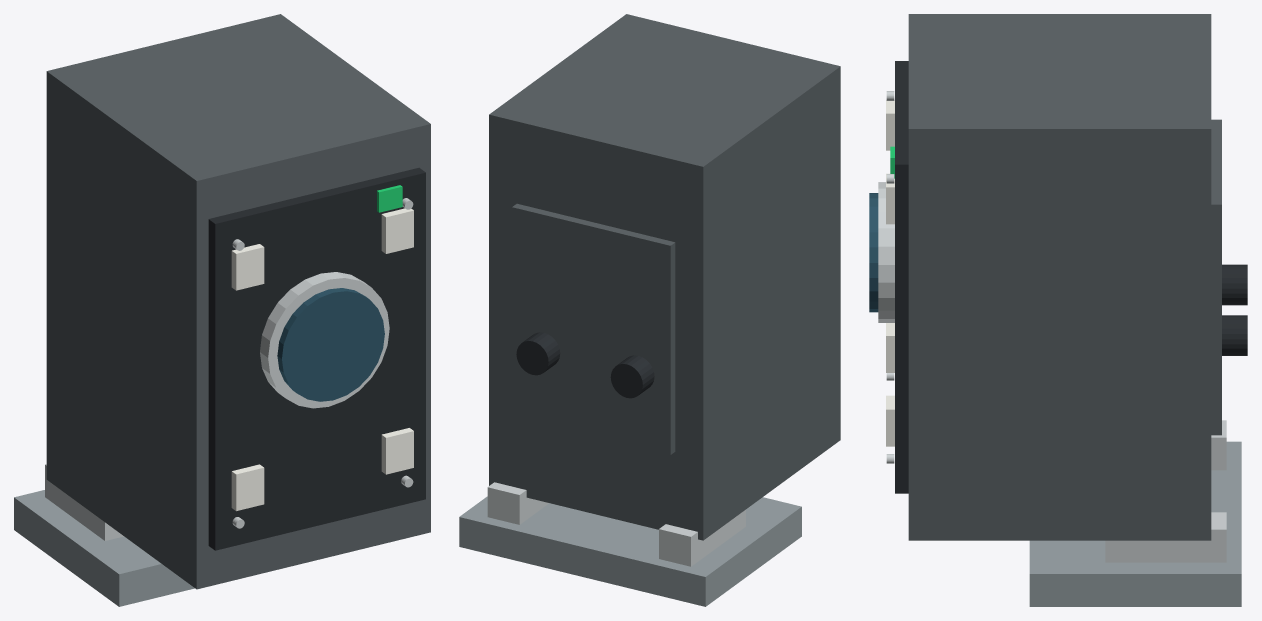
3 views of the same model, side by side, from view 1: azimuth 30°, elevation 25°; view 2: azimuth 150°, elevation 25°; view 3: azimuth 270°, elevation 25° (orthographic). The views are drawn at different scales.
Visible parts, largest first — view 1: housing, front bezel, optical lens, Mount bracket, lens surround, illumination emitter, mounting flange, illumination emitter.001, illumination emitter.002, illumination emitter.003, status indicator; view 2: housing, Rear connector plate, Mount bracket, mounting flange, mounting flange.001, Electrical connector, Electrical connector.001; view 3: housing, Mount bracket, front bezel, Rear connector plate, mounting flange.001, lens surround, optical lens, Electrical connector, Electrical connector.001, mounting flange.
Boxes of the visible parts, x1,y1,x2,y2 form: housing: (46,14,430,589); front bezel: (208,167,425,550); optical lens: (277,288,384,401); Mount bracket: (14,490,194,606); lens surround: (260,272,389,408); illumination emitter: (231,464,264,511); mounting flange: (45,464,123,540); illumination emitter.001: (231,244,264,290); illumination emitter.002: (381,428,413,474); illumination emitter.003: (381,208,413,253); status indicator: (377,185,402,212); housing: (489,14,840,540); Rear connector plate: (512,203,675,454); Mount bracket: (459,496,801,606); mounting flange: (659,509,745,566); mounting flange.001: (487,482,548,524); Electrical connector: (610,355,654,398); Electrical connector.001: (516,332,560,375); housing: (908,14,1211,540); Mount bracket: (1029,441,1241,606); front bezel: (895,61,908,493); Rear connector plate: (1211,119,1221,435); mounting flange.001: (1105,512,1226,562); lens surround: (878,182,894,322); optical lens: (869,193,878,312); Electrical connector: (1222,264,1247,305); Electrical connector.001: (1222,315,1247,355); mounting flange: (1211,420,1226,470).
Size of the model in its own units: 0.0518 by 0.0855 by 0.0625.
